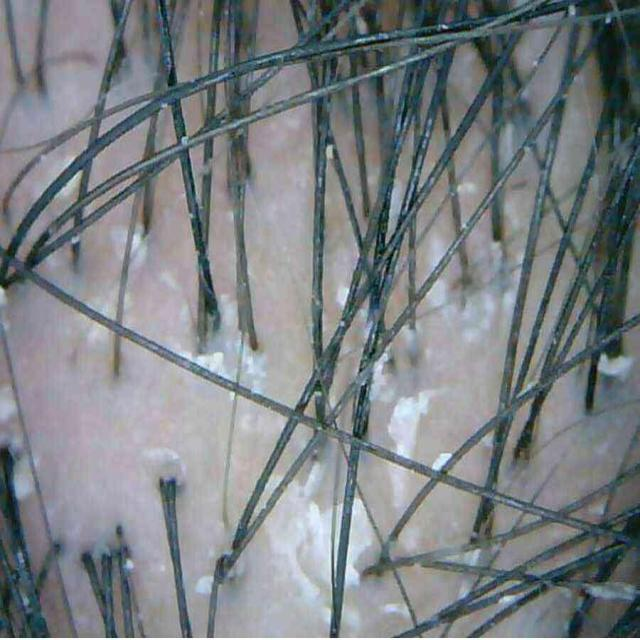d: (296, 502, 331, 591), (345, 498, 378, 588), (388, 391, 430, 456), (370, 348, 398, 402), (241, 350, 266, 390), (598, 353, 634, 379), (14, 457, 35, 500), (130, 223, 148, 267), (195, 351, 224, 375), (0, 386, 18, 423), (110, 227, 128, 262), (426, 279, 446, 308), (445, 549, 481, 565), (490, 239, 504, 274), (431, 453, 452, 470), (196, 576, 213, 595), (336, 286, 349, 308), (458, 182, 478, 196), (458, 582, 472, 598)
